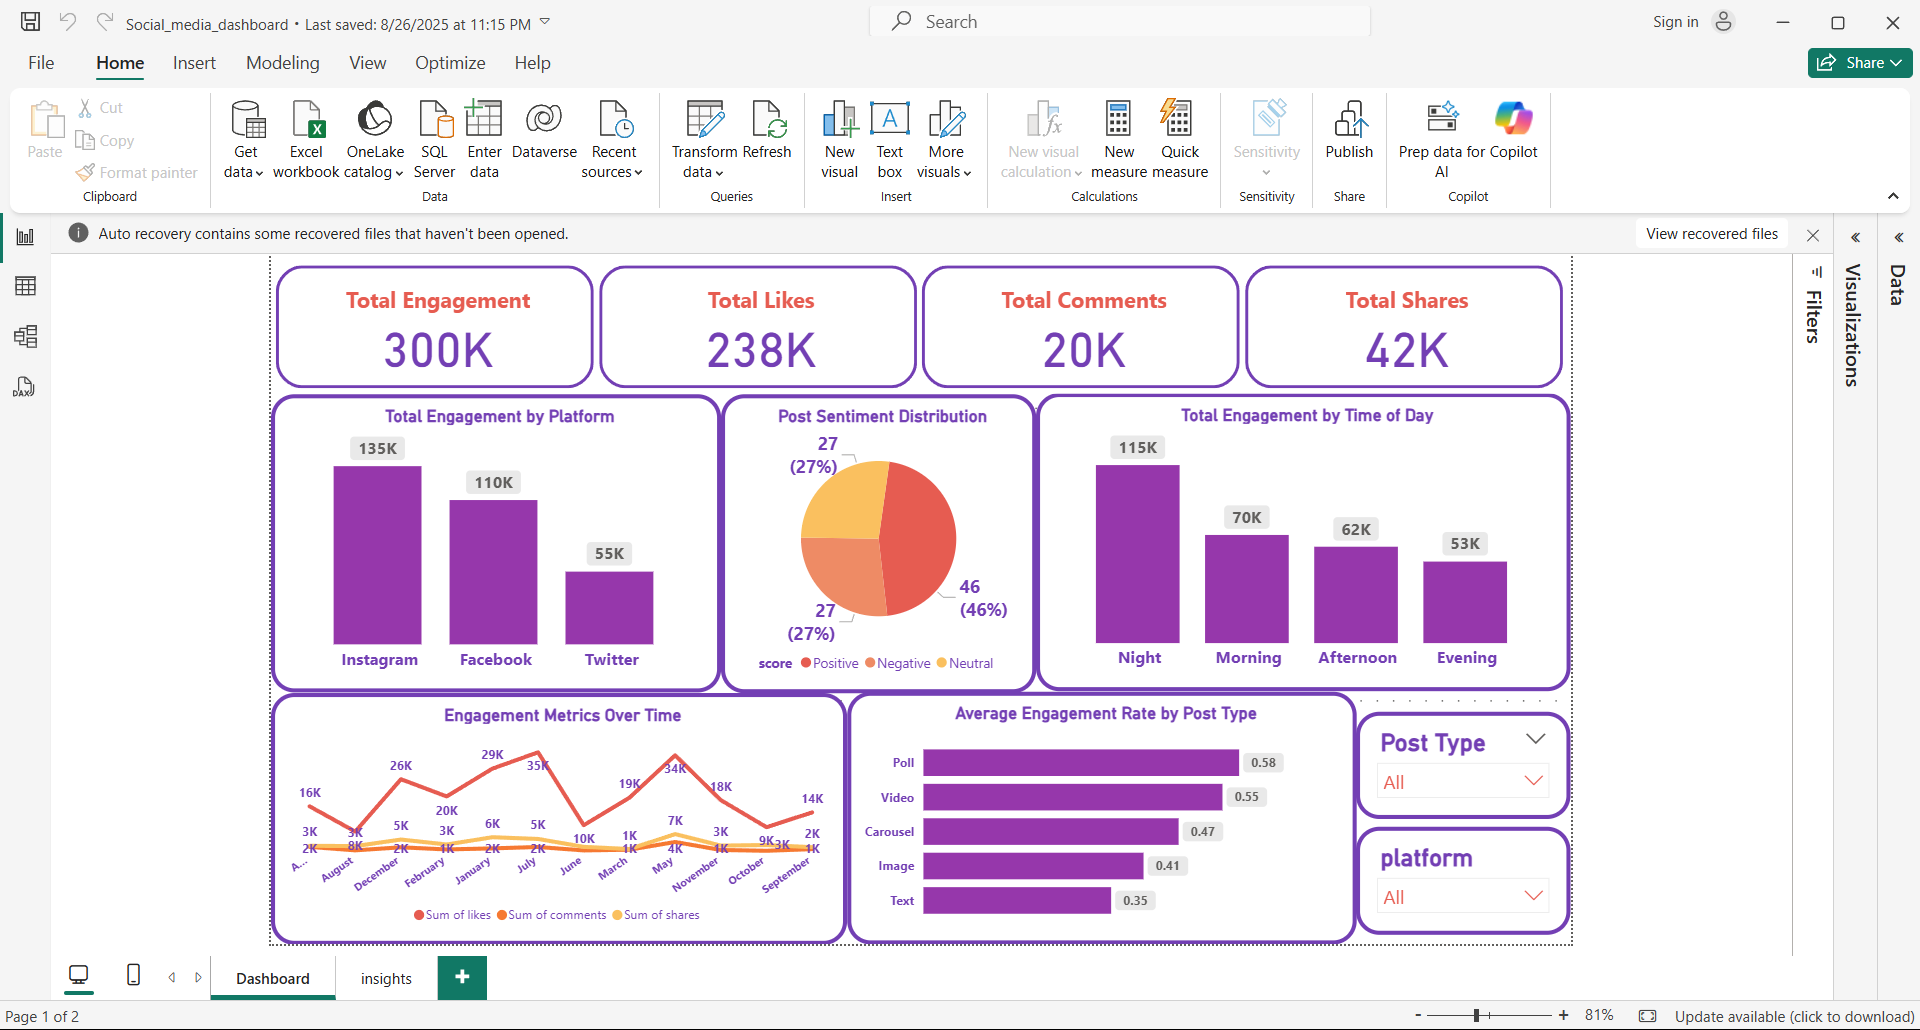

The dashboard page shown, as its layout file describes it:
{"tool":"powerbi","page":{"name":"Dashboard","canvas":[1280,720],"ordinal":0},"visuals":[{"type":"columnChart","title":"Total Engagement by Platform","fields":{"Category":["social_media.platform"],"Y":["Sum(social_media.total_engagement)"]},"box":[0,177.9,442.9,293.3],"z":0},{"type":"barChart","title":"Average Engagement Rate by Post Type","fields":{"Category":["social_media.post_type"],"Y":["Avg(social_media.engagement_rate)"]},"box":[566.9,471.2,501.8,249.1],"z":1000},{"type":"pieChart","title":"Post Sentiment Distribution","fields":{"Y":["CountNonNull(social_media.post_id)"],"Category":["social_media.sentiment_score"]},"box":[442.9,177.9,310.4,294.5],"z":2000},{"type":"lineChart","title":"Engagement Metrics Over Time","fields":{"Category":["social_media.post_month"],"Y":["Sum(social_media.likes)","Sum(social_media.comments)","Sum(social_media.shares)"]},"box":[0,472.4,566.9,247.9],"z":3000},{"type":"clusteredColumnChart","title":"Total Engagement by Time of Day","fields":{"Category":["social_media.time_category"],"Y":["Sum(social_media.total_engagement)"]},"box":[753.4,176.7,526.4,293.3],"z":4000},{"type":"slicer","fields":{"Values":["social_media.platform"]},"box":[1068.7,604.9,211,106.7],"z":5000},{"type":"slicer","fields":{"Values":["social_media.post_type"]},"box":[1068.7,490.8,211,105.5],"z":6000},{"type":"textbox","box":[365.6,0,628.2,46.6],"z":7000},{"type":"cardVisual","fields":{"Data":["Sum(social_media.total_engagement)","Sum(social_media.likes)","Sum(social_media.comments)","Sum(social_media.shares)"]},"box":[0,46.6,1279.8,131.3],"z":8000}]}

Visuals, with their boxes on the page's 1280x720 design canvas (x1, y1, x2, y2). These are canvas units, not pixel positions in the 1920x1030 screenshot, which may show the page scaled, cropped or inside an application window:
"Total Engagement by Platform" columnChart: [0,178,443,471]
"Average Engagement Rate by Post Type" barChart: [567,471,1069,720]
"Post Sentiment Distribution" pieChart: [443,178,753,472]
"Engagement Metrics Over Time" lineChart: [0,472,567,720]
"Total Engagement by Time of Day" clusteredColumnChart: [753,177,1280,470]
slicer - social_media.platform: [1069,605,1280,712]
slicer - social_media.post_type: [1069,491,1280,596]
textbox: [366,0,994,47]
cardVisual - Sum(social_media.total_engagement) x Sum(social_media.likes): [0,47,1280,178]
